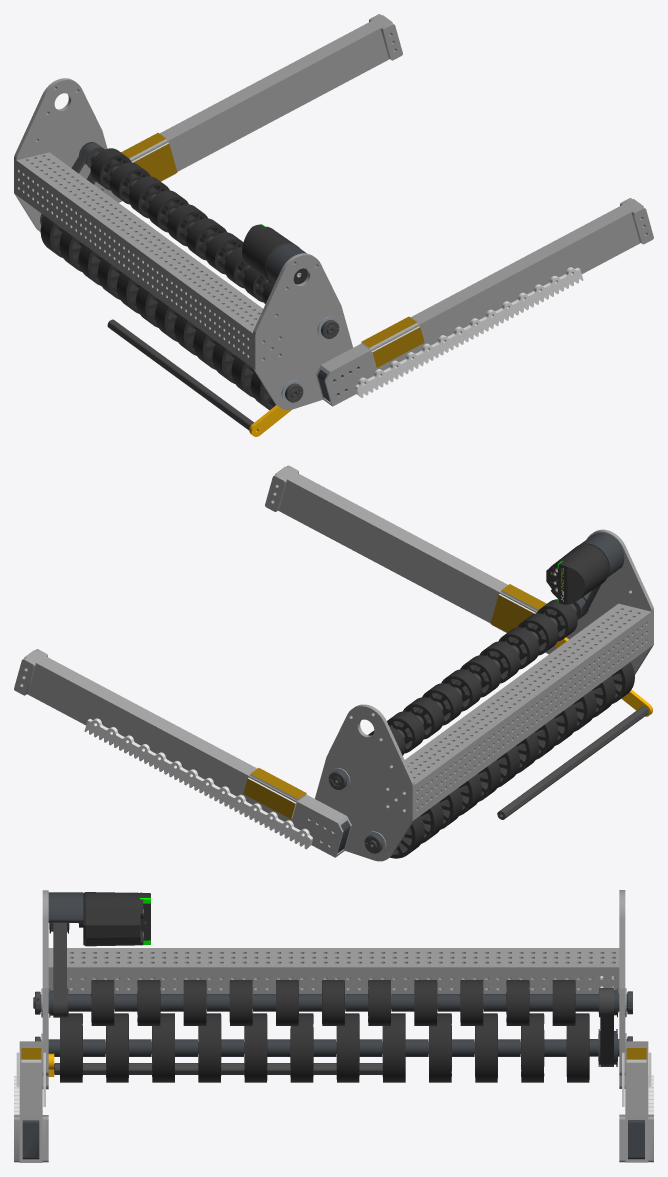
3 views of the same model, one above another, from view 1: azimuth 30°, elevation 25°; view 2: azimuth 150°, elevation 25°; view 3: azimuth 270°, elevation 25° (orthographic). The views are drawn at different scales.
Visible parts, largest first — view 1: Part 9, 3" Flex Wheel (30A, 1" Wide, 1/2" Hex Bore), OuterTeflon, VEX-THND-500-26-NONE, 1" L 1/2" Hex Spacer; view 2: Part 9, 3" Flex Wheel (30A, 1" Wide, 1/2" Hex Bore), OuterTeflon, VEX-THND-500-26-NONE, 1" L 1/2" Hex Spacer; view 3: 3" Flex Wheel (30A, 1" Wide, 1/2" Hex Bore), Part 9, 1" L 1/2" Hex Spacer, VEX-THND-500-26-NONE, OuterTeflon.
Part boxes in pixels (bbox=[...]): Part 9: bbox=[14, 14, 653, 410]; 3" Flex Wheel (30A, 1" Wide, 1/2" Hex Bore): bbox=[40, 148, 307, 410]; OuterTeflon: bbox=[121, 133, 583, 397]; VEX-THND-500-26-NONE: bbox=[41, 143, 339, 430]; 1" L 1/2" Hex Spacer: bbox=[40, 142, 358, 401]; Part 9: bbox=[14, 465, 653, 861]; 3" Flex Wheel (30A, 1" Wide, 1/2" Hex Bore): bbox=[368, 544, 634, 858]; OuterTeflon: bbox=[84, 584, 546, 849]; VEX-THND-500-26-NONE: bbox=[328, 584, 648, 853]; 1" L 1/2" Hex Spacer: bbox=[309, 533, 624, 852]; 3" Flex Wheel (30A, 1" Wide, 1/2" Hex Bore): bbox=[49, 892, 589, 1082]; Part 9: bbox=[14, 890, 653, 1162]; 1" L 1/2" Hex Spacer: bbox=[22, 892, 644, 1159]; VEX-THND-500-26-NONE: bbox=[33, 922, 632, 1074]; OuterTeflon: bbox=[14, 976, 653, 1114].
Bounding box in the file's own units: 0.5958 × 0.2532 × 0.7049.
